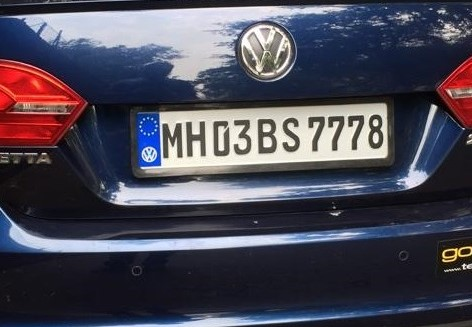MH03BS7778: (136, 103, 389, 170)
